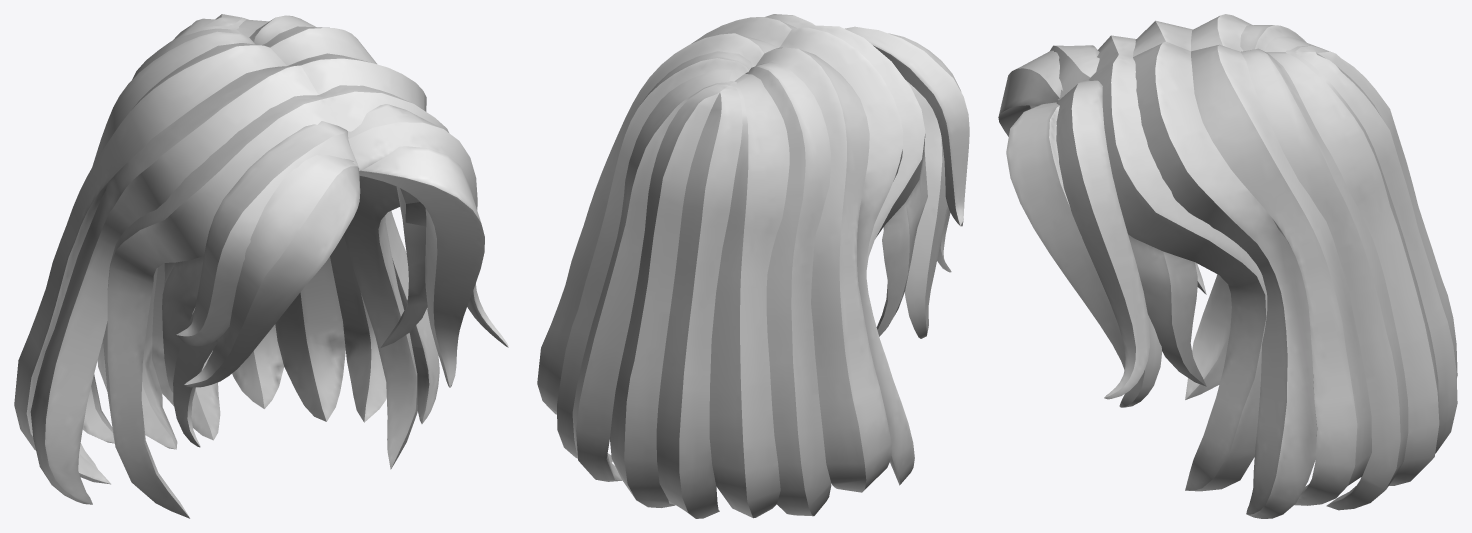
The model's file is hair-long.glb.
The picture shows the model from 3 angles, left to right: view 1: azimuth 30°, elevation 25°; view 2: azimuth 150°, elevation 25°; view 3: azimuth 270°, elevation 25°; orthographic projection. The views are drawn at different scales.
Visible parts, largest first — view 1: hair-long; view 2: hair-long; view 3: hair-long.
Boxes of the visible parts, x1=… form: hair-long: x1=14, y1=14, x2=508, y2=518; hair-long: x1=537, y1=14, x2=969, y2=518; hair-long: x1=998, y1=14, x2=1457, y2=518.
Bounding box in the file's own units: 0.2447 × 0.278 × 0.2677.
Materials: 1 (1 with a texture image).
